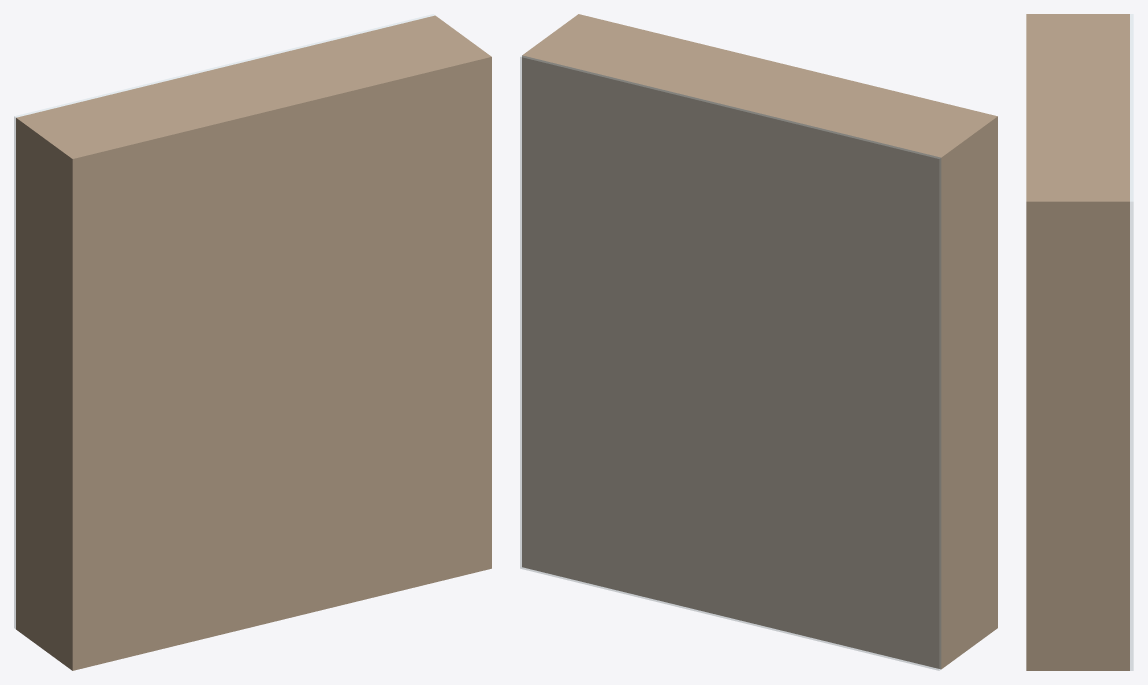
Rendered from bath_mirror_cab.glb.
3 renders of one model, left to right at view 1: azimuth 30°, elevation 25°; view 2: azimuth 150°, elevation 25°; view 3: azimuth 270°, elevation 25°, orthographic. The views are drawn at different scales.
Parts seen in each view (by area): view 1: bath_mirror_cab; view 2: bath_mirror_cab; view 3: bath_mirror_cab.
Part boxes in pixels (x1,y1,x2,y2): bath_mirror_cab: (14, 14, 491, 670); bath_mirror_cab: (520, 14, 997, 670); bath_mirror_cab: (1026, 14, 1133, 670).
Size of what is drawn, in the model's own units: 0.6 by 0.7 by 0.145.
